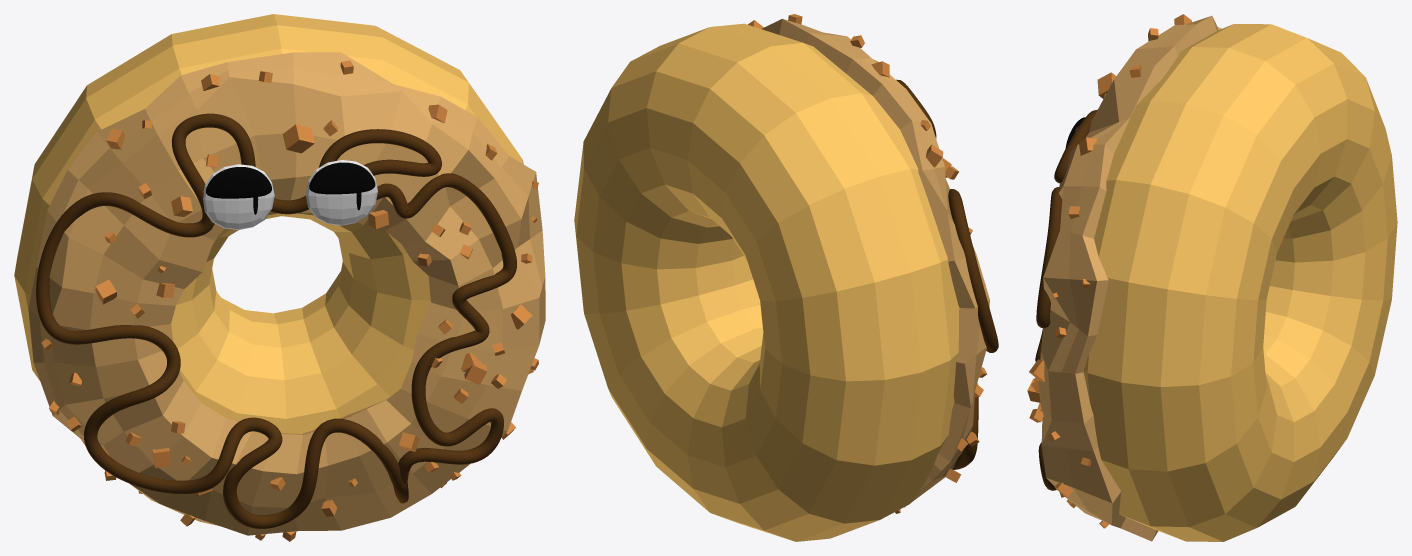
Rendered from donut.glb.
The picture shows the model from 3 angles, left to right: view 1: azimuth 30°, elevation 25°; view 2: azimuth 150°, elevation 25°; view 3: azimuth 270°, elevation 25°; orthographic projection.
Parts seen in each view (by area): view 1: icing.001, base.001, NurbsPath.001, Cube.008, rechter_oogbal.001, linker_oogbal.001, rechter_ooglid.001, linker_ooglid.001; view 2: base.001, icing.001, NurbsPath.001, Cube.008; view 3: base.001, icing.001, NurbsPath.001, Cube.008.
Part boxes in pixels (x1,y1,x2,y2): icing.001: (28, 52, 545, 535); base.001: (14, 14, 523, 445); NurbsPath.001: (36, 113, 516, 528); Cube.008: (41, 60, 538, 541); rechter_oogbal.001: (305, 160, 377, 225); linker_oogbal.001: (203, 164, 274, 229); rechter_ooglid.001: (309, 162, 375, 194); linker_ooglid.001: (206, 167, 271, 198); base.001: (574, 23, 959, 541); icing.001: (761, 18, 989, 502); NurbsPath.001: (896, 79, 998, 469); Cube.008: (748, 14, 987, 513); base.001: (1083, 24, 1397, 541); icing.001: (1038, 16, 1221, 541); NurbsPath.001: (1035, 109, 1097, 490); Cube.008: (1027, 14, 1191, 528).
Bounding box in the file's own units: 0.3371 × 0.3472 × 0.2442.
